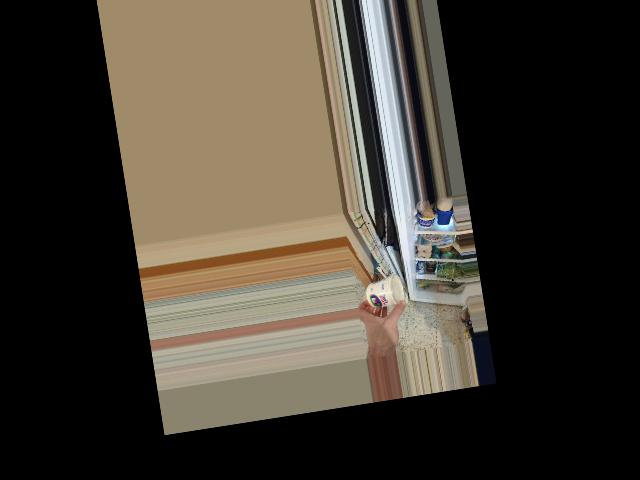cotage: (363, 274, 405, 310)
